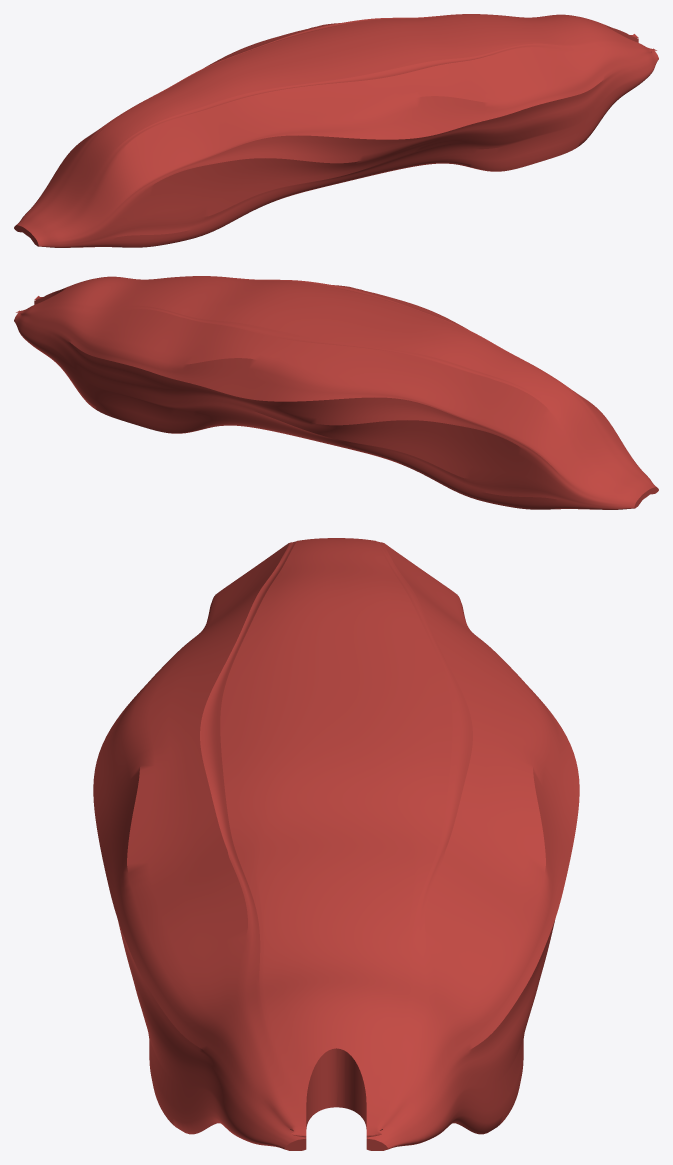
File: streetfighter.glb
3 views of the same model, one above another, from view 1: azimuth 30°, elevation 25°; view 2: azimuth 150°, elevation 25°; view 3: azimuth 270°, elevation 25° (orthographic). The views are drawn at different scales.
Parts seen in each view (by area): view 1: streetfighter; view 2: streetfighter; view 3: streetfighter.
Part boxes in pixels (x1=…): streetfighter: x1=14, y1=14, x2=658, y2=247; streetfighter: x1=14, y1=276, x2=658, y2=509; streetfighter: x1=93, y1=538, x2=579, y2=1150.
Size of the model in its own units: 1.07 by 0.2055 by 0.362.
